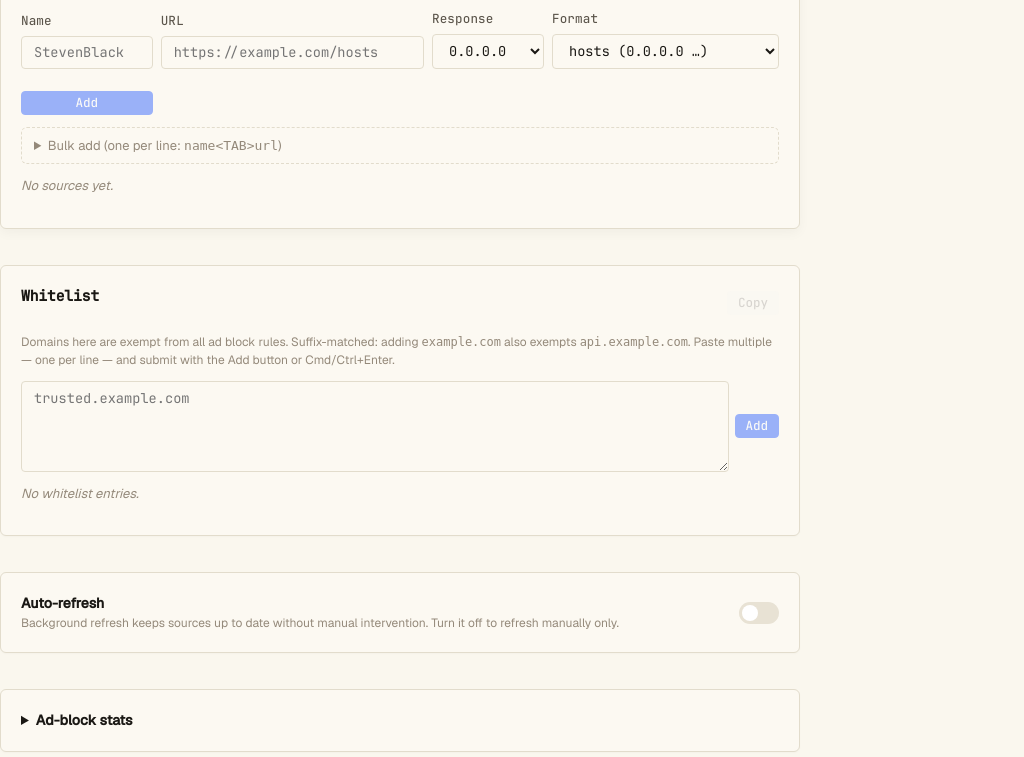
Test: AdBlock › hides the interval select when auto-refresh is off and shows it when on
(page scrolled)
Check: the text "Auto-refresh" is shown, box [21,594,104,612]
Step 1. Click the checkbox named "Auto-refresh" → click(759, 612), box [739,602,779,624]
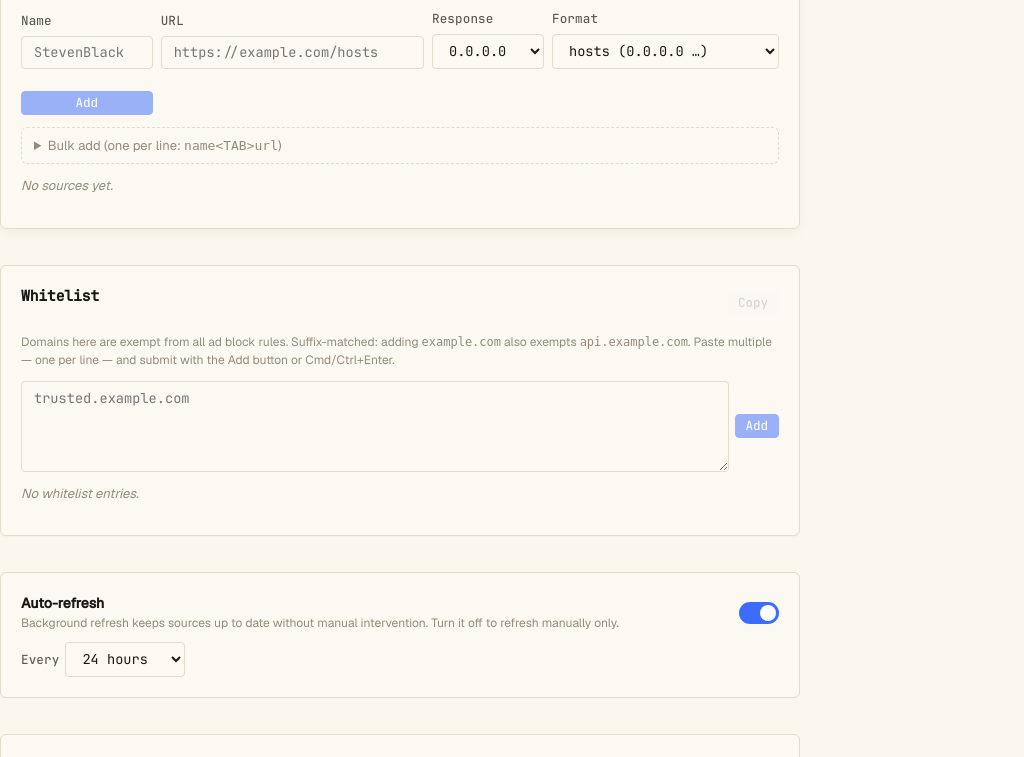
Check: the dropdown named "Refresh interval" is shown, box [65,642,185,677]
